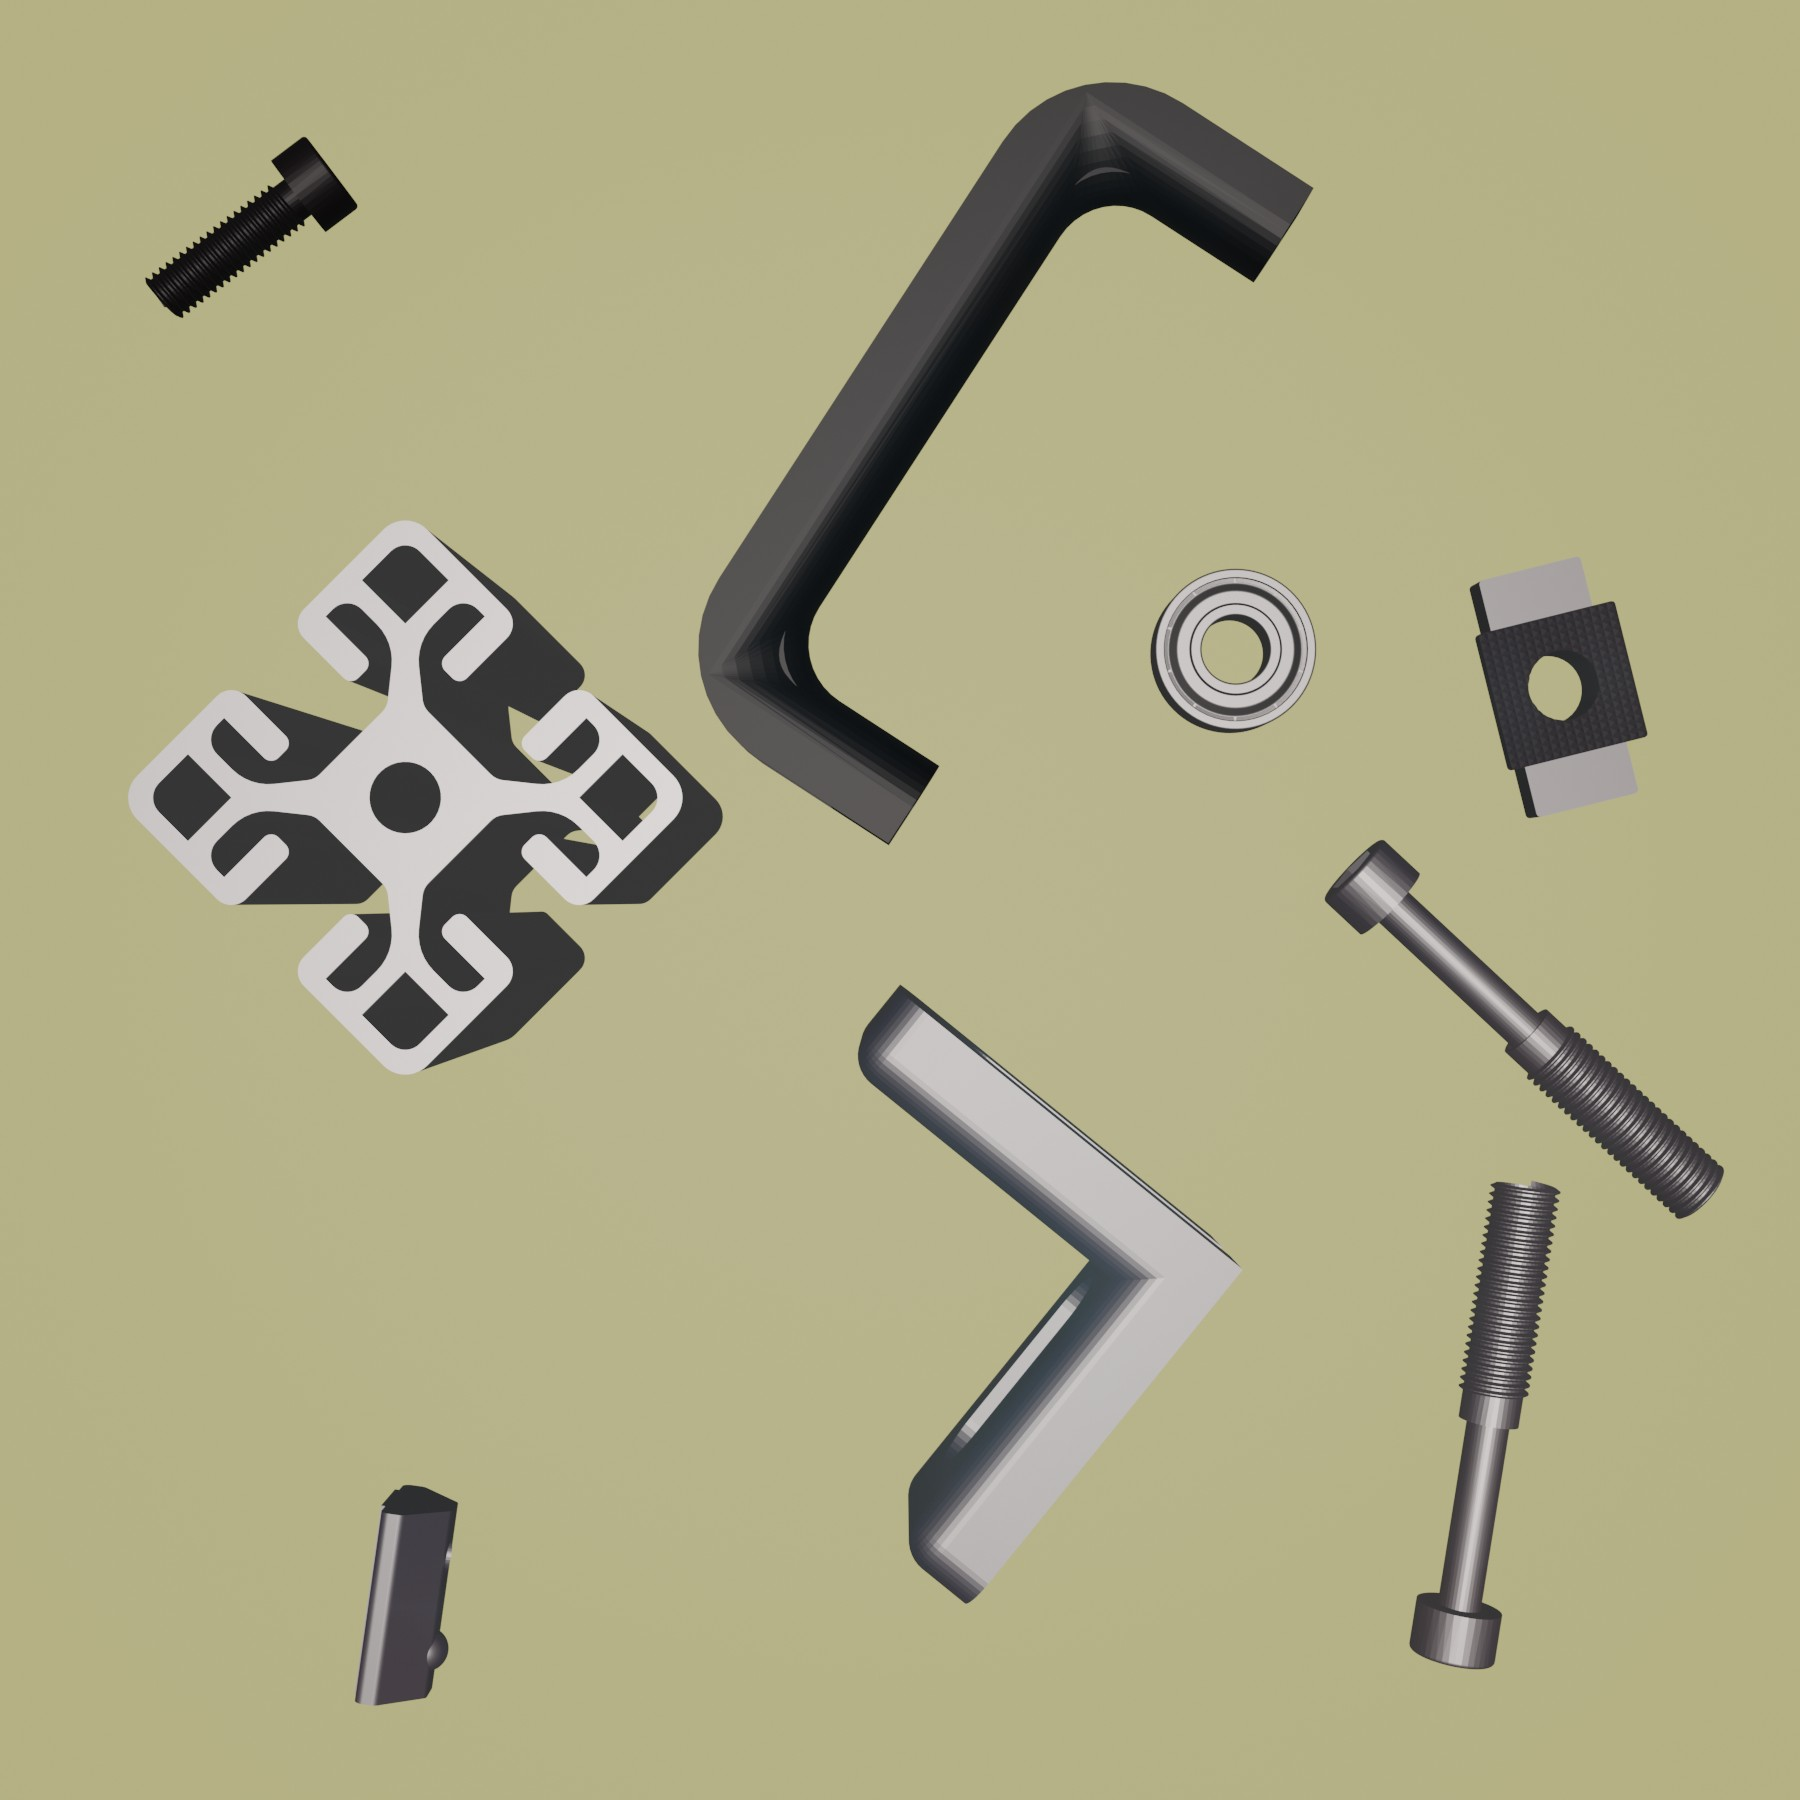Aluminium Extension: (125, 516, 724, 1081)
Ball Bearing: (1147, 565, 1317, 737)
Multiwinkel: (855, 982, 1245, 1607)
Pull Handle: (697, 77, 1315, 847)
Shoulder Socket Head Cap Screw: (1320, 837, 1727, 1220), (1404, 1179, 1566, 1673)
Socket Head Cap Screw: (143, 132, 359, 320)
T Nut Square: (1465, 554, 1648, 819)
T Spring Nut: (349, 1480, 458, 1708)
